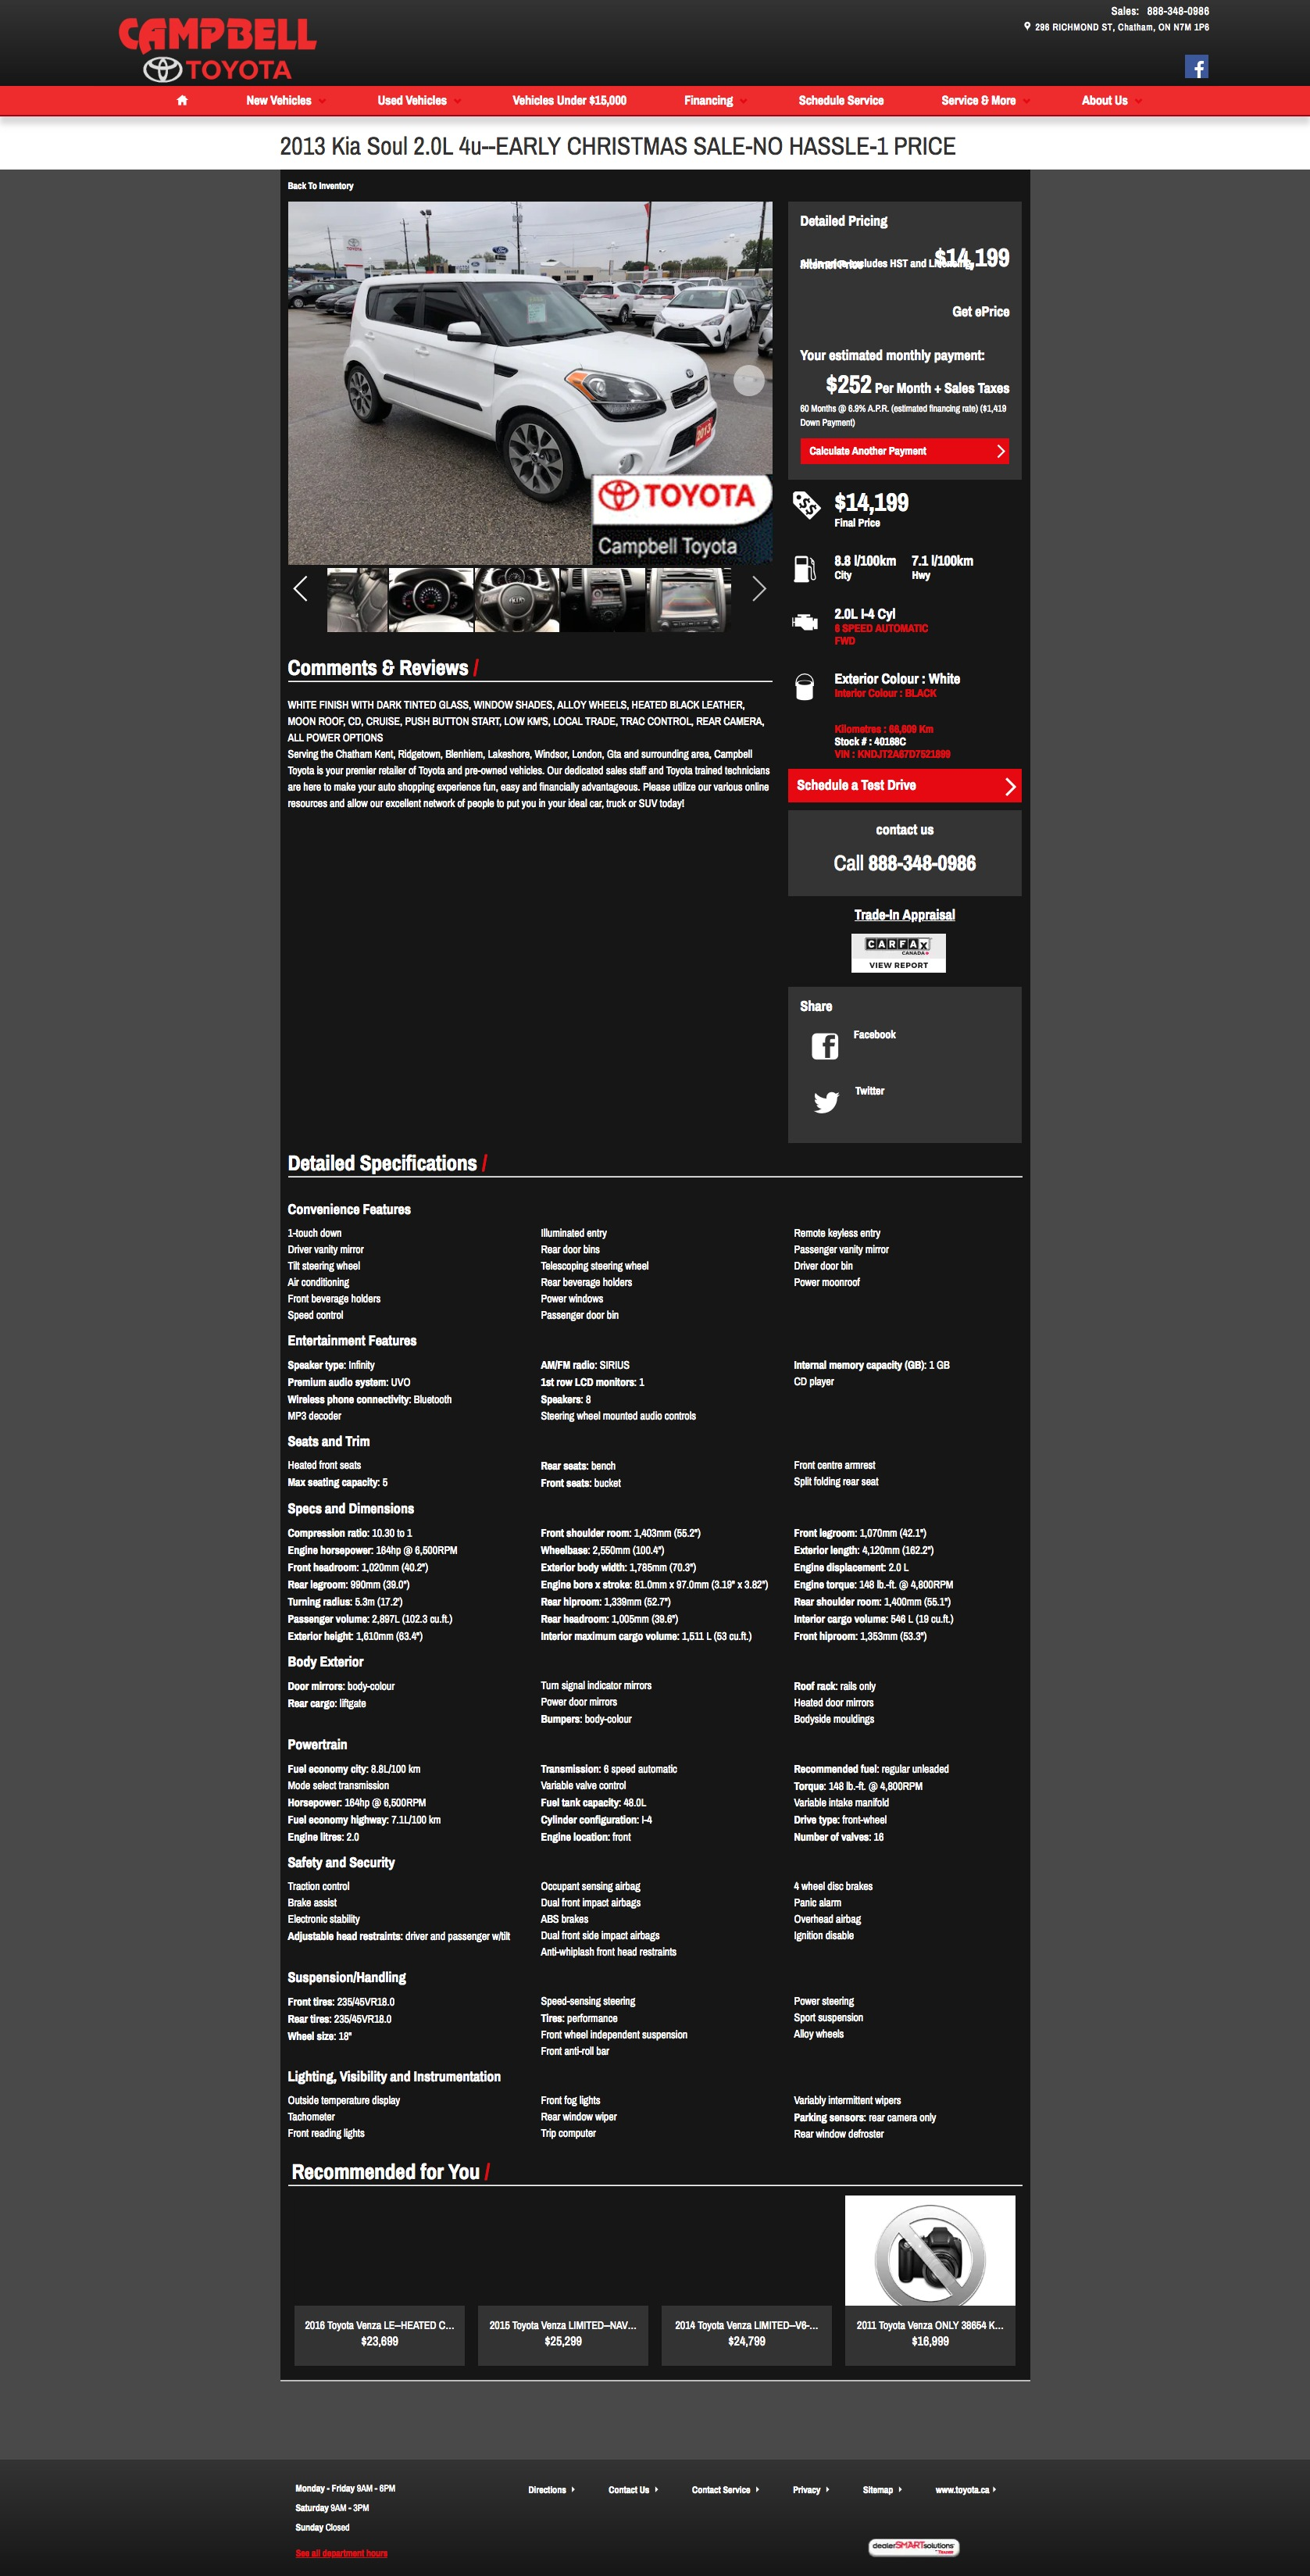car: (749, 575, 769, 603)
